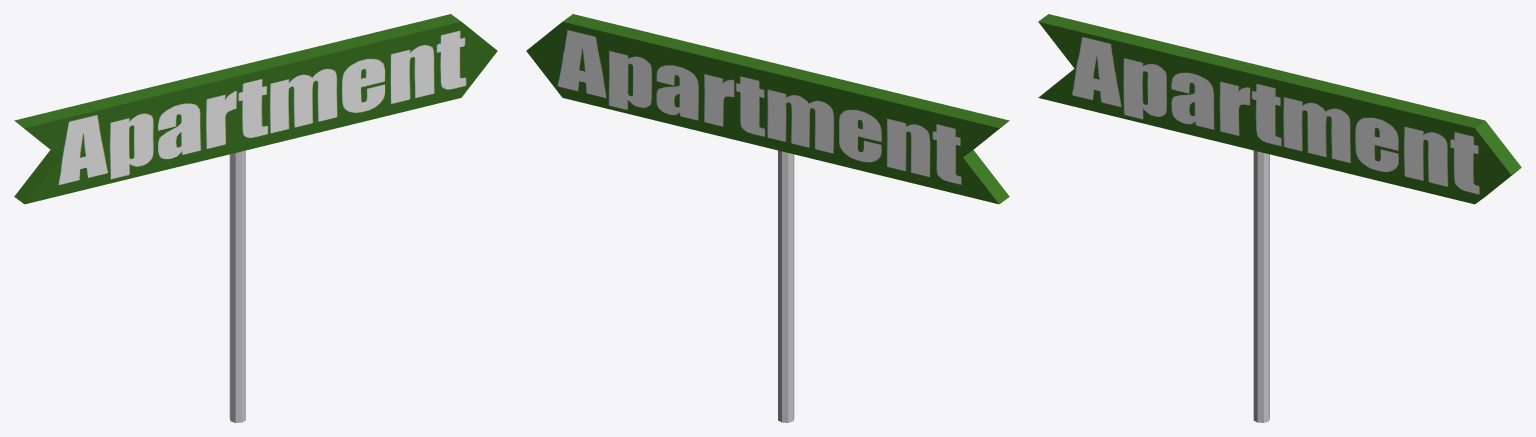
The model's file is StreetSigns.fbx_Apartment_Sign.fbx.
The picture shows the model from 3 angles, left to right: view 1: azimuth 30°, elevation 25°; view 2: azimuth 150°, elevation 25°; view 3: azimuth 330°, elevation 25°; orthographic projection.
Visible parts, largest first — view 1: Cube.003, Cylinder.002; view 2: Cube.003, Cylinder.002; view 3: Cube.003, Cylinder.002.
Boxes of the visible parts, left/top/right/bottom form: Cube.003: left=14, top=14, right=497, bottom=204; Cylinder.002: left=229, top=150, right=245, bottom=422; Cube.003: left=526, top=14, right=1009, bottom=204; Cylinder.002: left=778, top=150, right=794, bottom=422; Cube.003: left=1038, top=14, right=1521, bottom=204; Cylinder.002: left=1253, top=150, right=1269, bottom=422.
Size of the model in its own units: 25 by 650 by 457.
